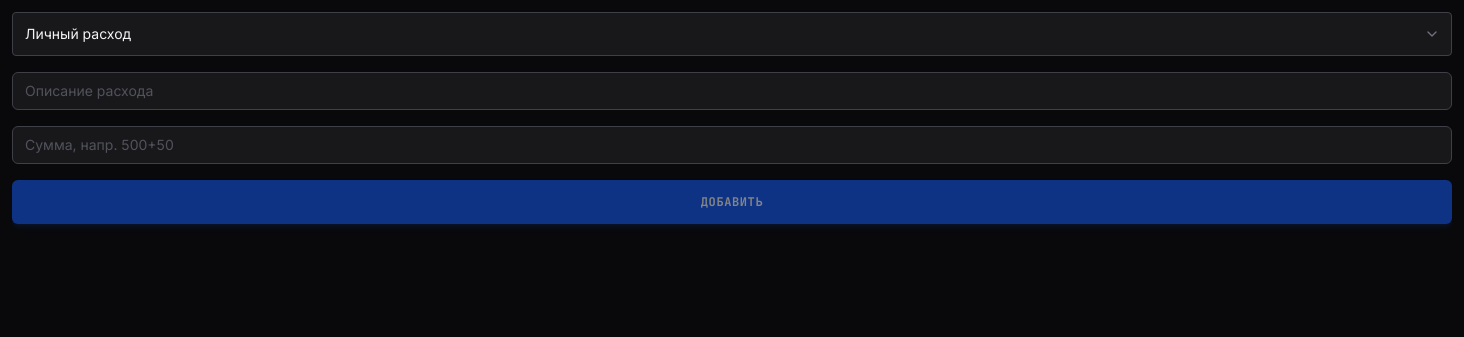
Test: ExpenseForm › pocket purchase scenario › shows the pocket select only for the pocket scenario
The width and height of the screenshot is (1464, 337).
Expected: the field labelled "Карман" is not shown
Expected: the text "Покупка из кармана: входит в «Анализ» и расходы дня, недельный бюджет не тратит" is not shown
Select "Покупка из кармана" in the dropdown named "сценарий операции" at (732, 34), box [12,12,1452,56]
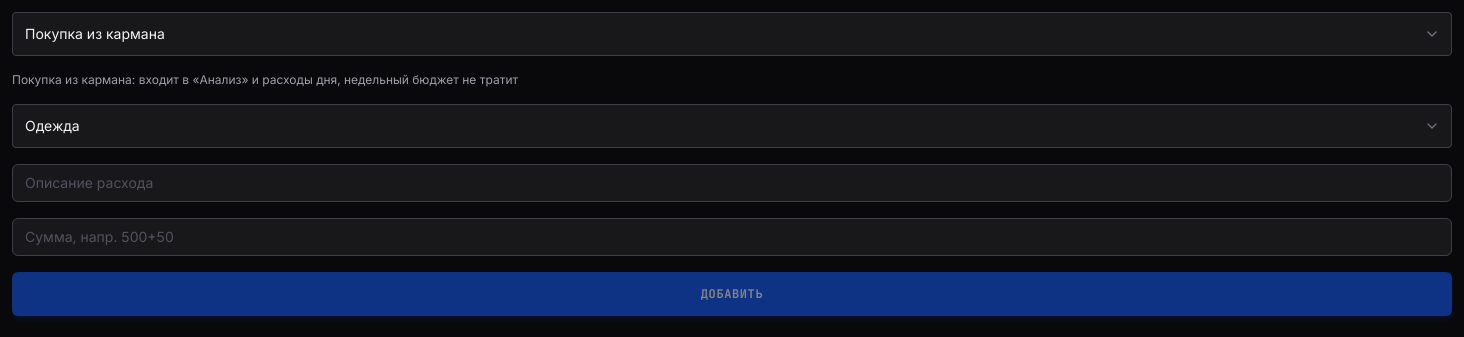
Result: the dropdown named "Карман" is shown at [12,104,1452,148]
Result: the text "Покупка из кармана: входит в «Анализ» и расходы дня, недельный бюджет не тратит" is shown at [12,72,518,87]
